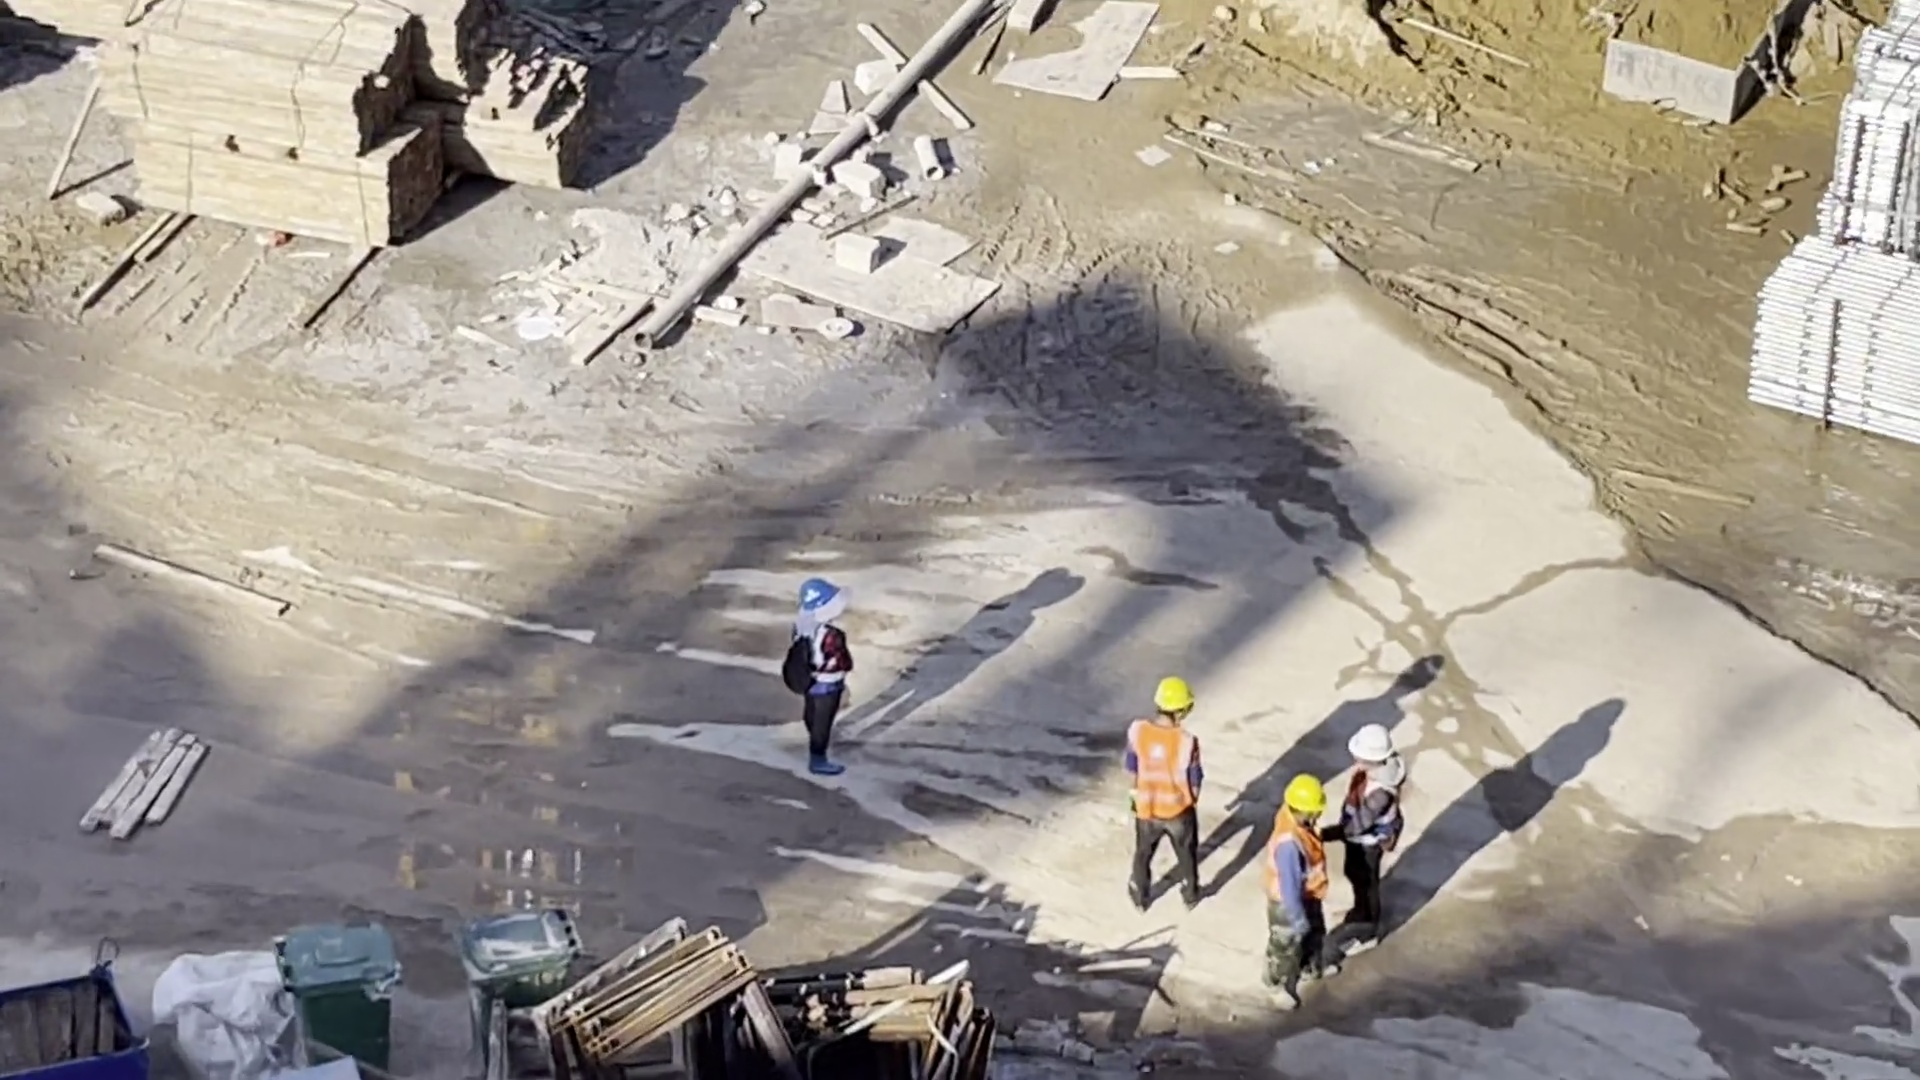helmet: (1286, 773, 1327, 814), (1348, 729, 1394, 761), (1155, 679, 1192, 714), (798, 583, 838, 610)
hopper: (1595, 1, 1800, 129), (1, 970, 146, 1079)
person: (1331, 726, 1404, 960), (1129, 679, 1202, 910), (1265, 772, 1331, 1006), (796, 581, 854, 779)
scaffold: (1761, 235, 1920, 434), (1831, 20, 1920, 236)
vest: (1125, 722, 1196, 818), (1258, 816, 1328, 907), (800, 629, 847, 697)
wood: (103, 1, 442, 242)
